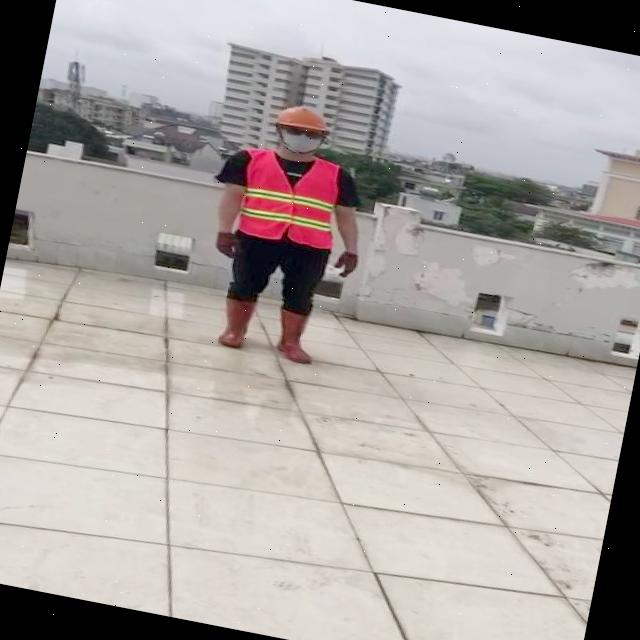boots: (269, 308, 323, 366), (216, 295, 258, 350)
